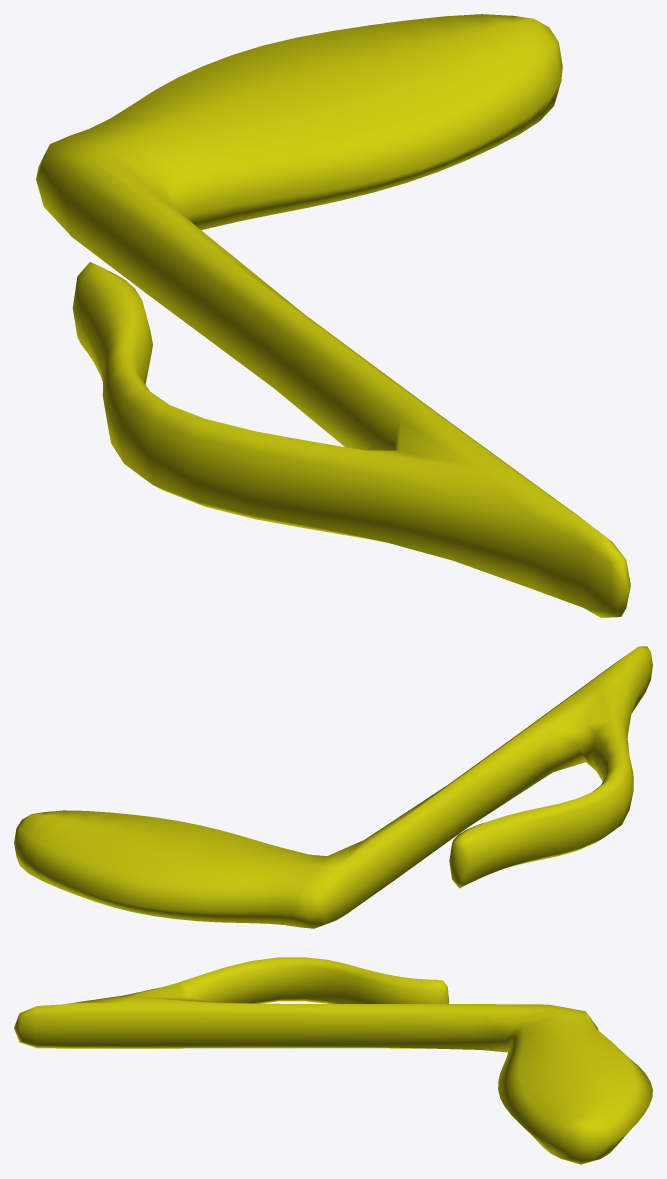
File: uploads_files_2463307_Note+Eight.obj
3 renders of one model, top to bottom at view 1: azimuth 30°, elevation 25°; view 2: azimuth 150°, elevation 25°; view 3: azimuth 270°, elevation 25°, orthographic. The views are drawn at different scales.
Visible parts, largest first — view 1: obj1; view 2: obj1; view 3: obj1.
Boxes of the visible parts, box(x1,y1,x2,y2) form: obj1: box(36, 14, 630, 617); obj1: box(14, 646, 652, 928); obj1: box(14, 957, 652, 1164).
Bounding box in the file's own units: 1.09 × 0.1326 × 1.68.
